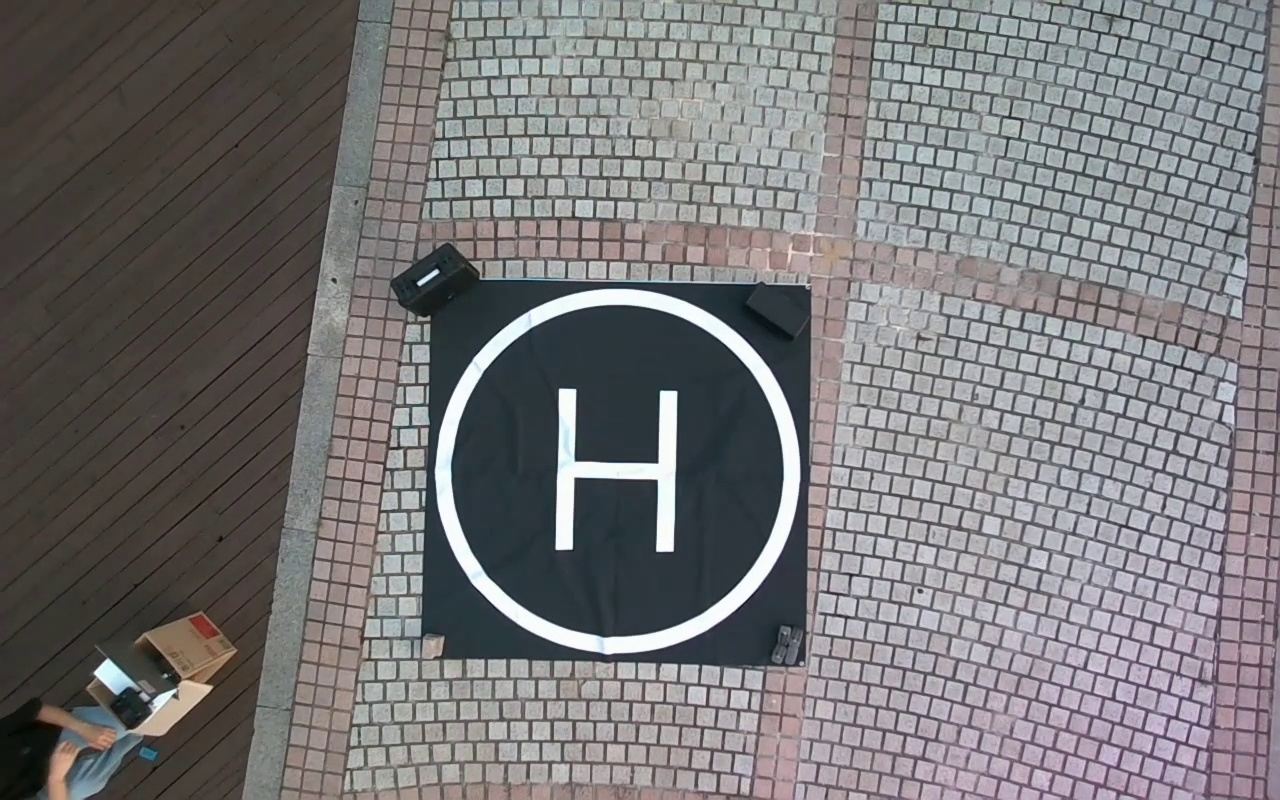H: (553, 386, 676, 551)
heliport: (434, 289, 802, 656)
